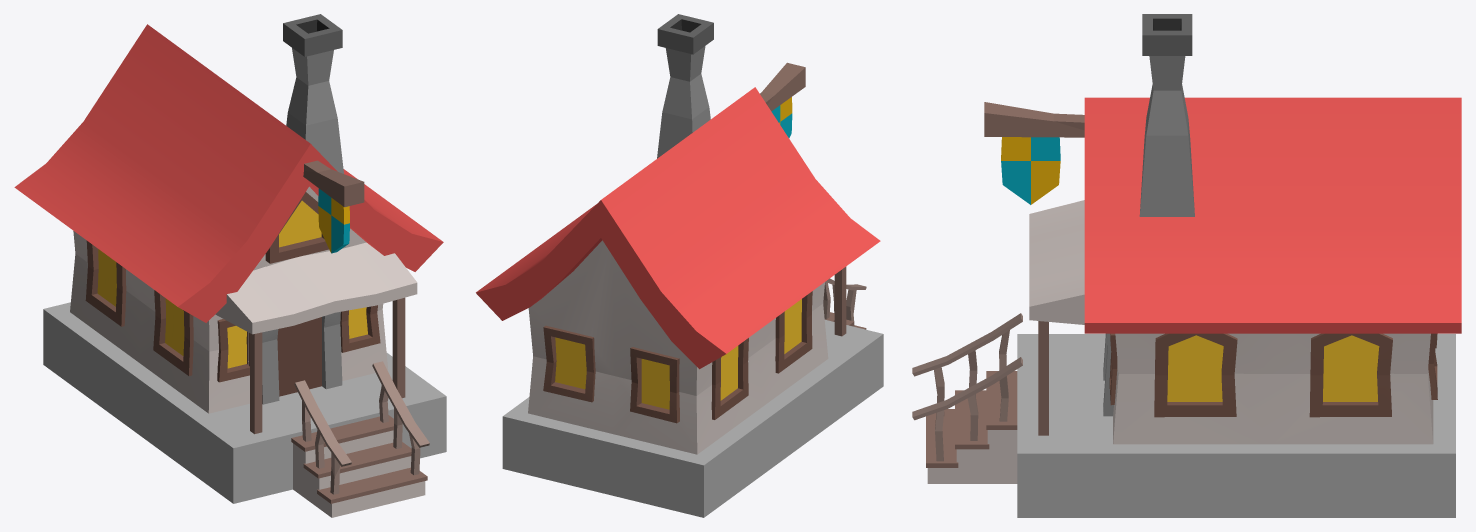
File: house_006.fbx
The picture shows the model from 3 angles, left to right: view 1: azimuth 30°, elevation 25°; view 2: azimuth 150°, elevation 25°; view 3: azimuth 270°, elevation 25°; orthographic projection. The views are drawn at different scales.
Parts seen in each view (by area): view 1: house_006; view 2: house_006; view 3: house_006.
Boxes of the visible parts, x1,y1,x2,y2 form: house_006: (14,14,446,517); house_006: (476,14,883,517); house_006: (912,14,1461,517).
Size of the model in its own units: 510 by 791 by 722.
Materials: 2 (2 with a texture image).
